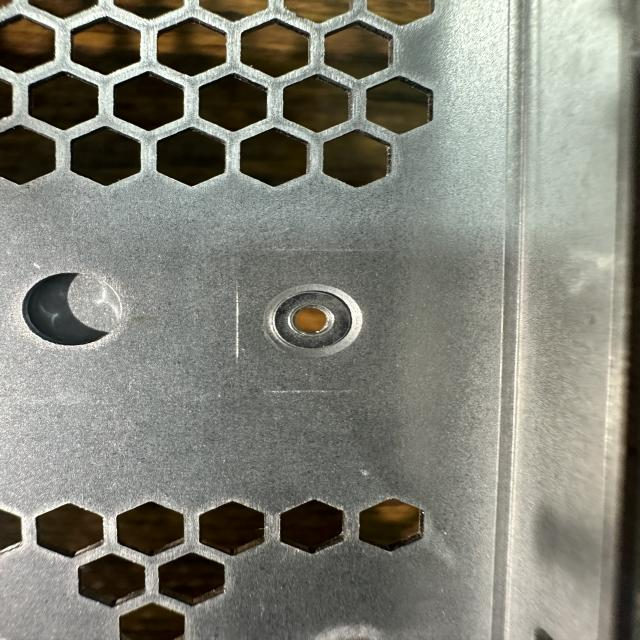Missing screw: (256, 277, 374, 362)
